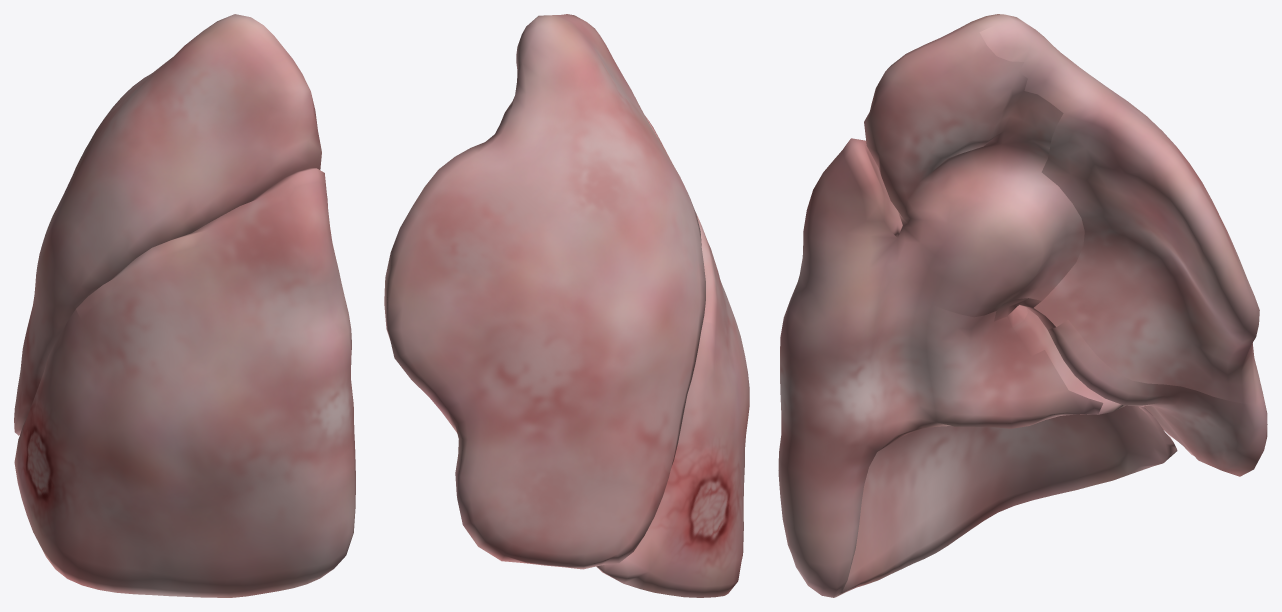
File: lungs_4_DX.fbx
3 renders of one model, left to right at view 1: azimuth 30°, elevation 25°; view 2: azimuth 150°, elevation 25°; view 3: azimuth 270°, elevation 25°, orthographic. The views are drawn at different scales.
Visible parts, largest first — view 1: Polmone_DX; view 2: Polmone_DX; view 3: Polmone_DX.
Boxes of the visible parts, x1=… form: Polmone_DX: x1=14, y1=14, x2=355, y2=597; Polmone_DX: x1=384, y1=14, x2=749, y2=597; Polmone_DX: x1=778, y1=14, x2=1267, y2=597.
Bounding box in the file's own units: 10.27 × 21.31 × 15.76.
